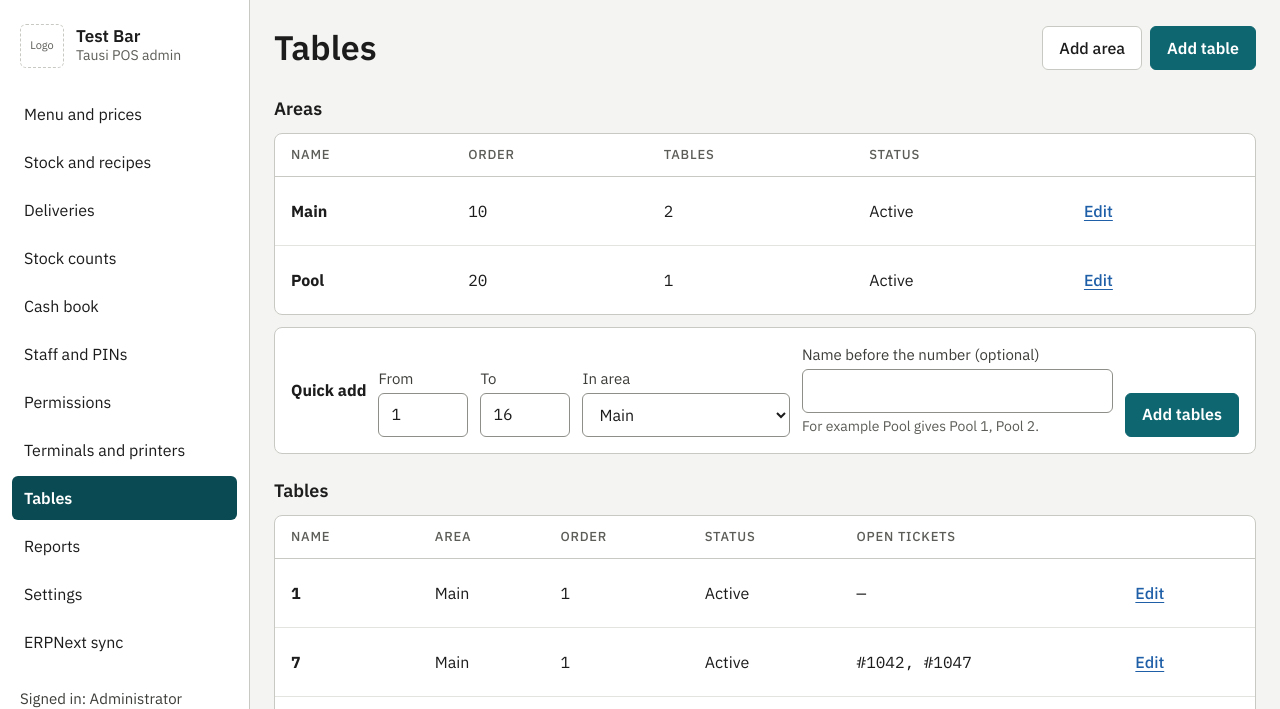
Test: Tables admin › quick add sends the range and says what was added and skipped
Replace the text in the field labelled "From" with "7" at [423, 415], box [378,393,468,437]
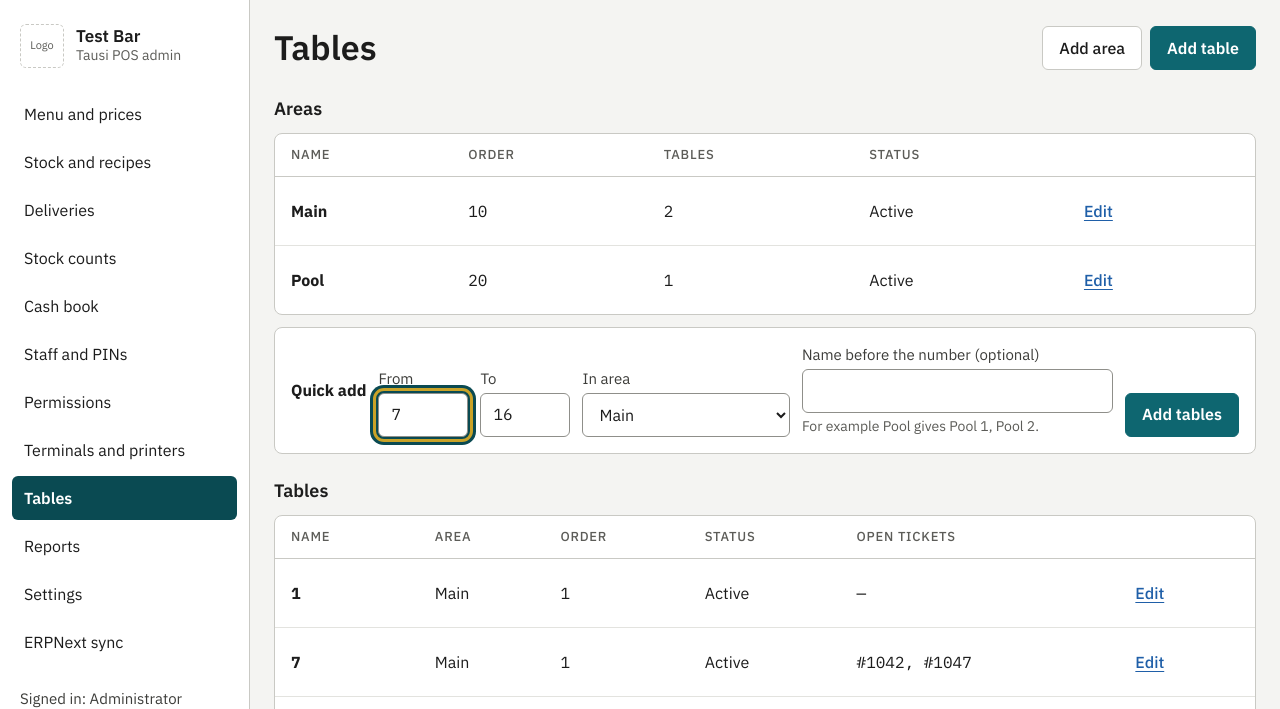
Replace the text in the field labelled "To" with "9" at [525, 415], box [480,393,570,437]
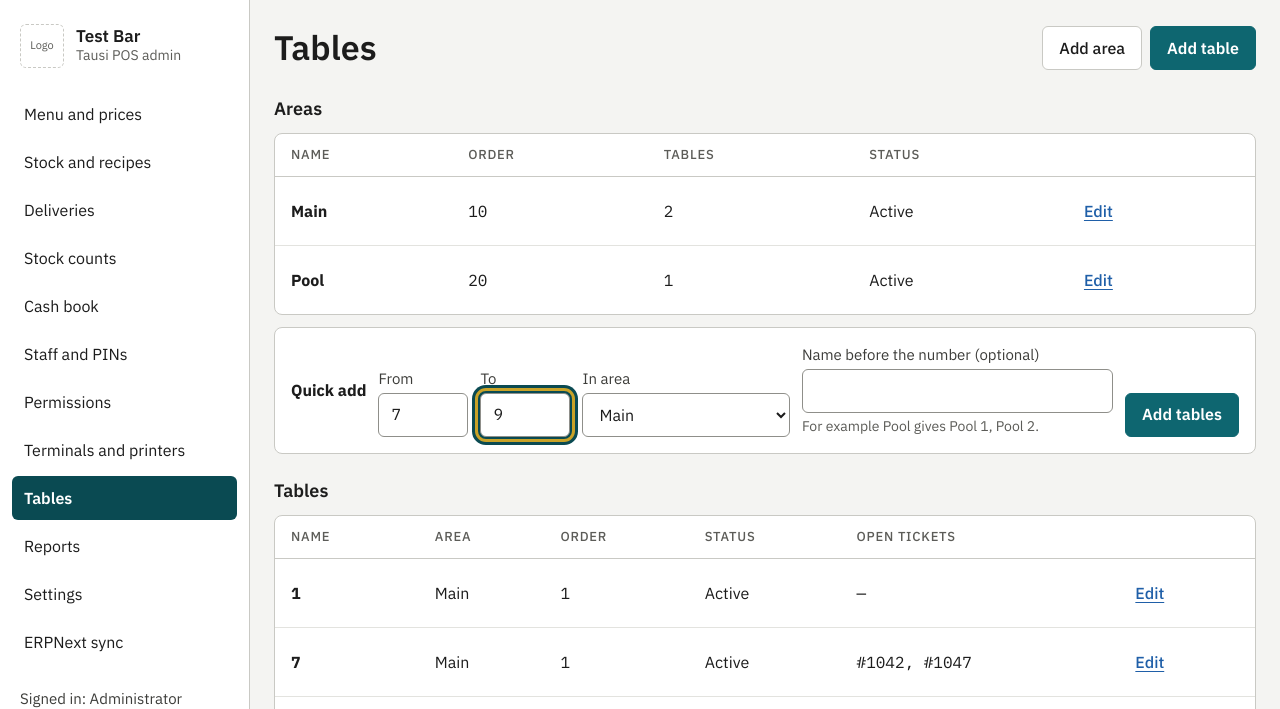
Click the button "Add tables" at [1182, 415], box [1125,393,1239,437]
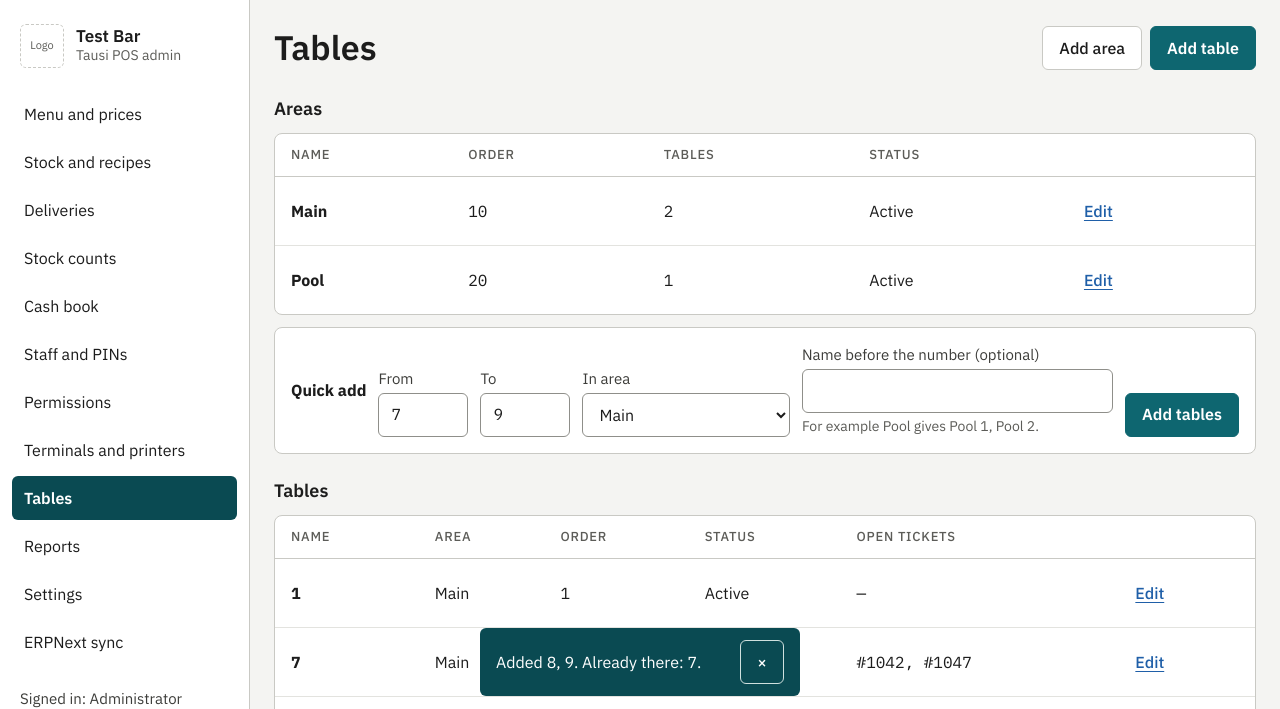
Result: the text "Added 8, 9. Already there: 7." is shown at [496,651,724,673]
